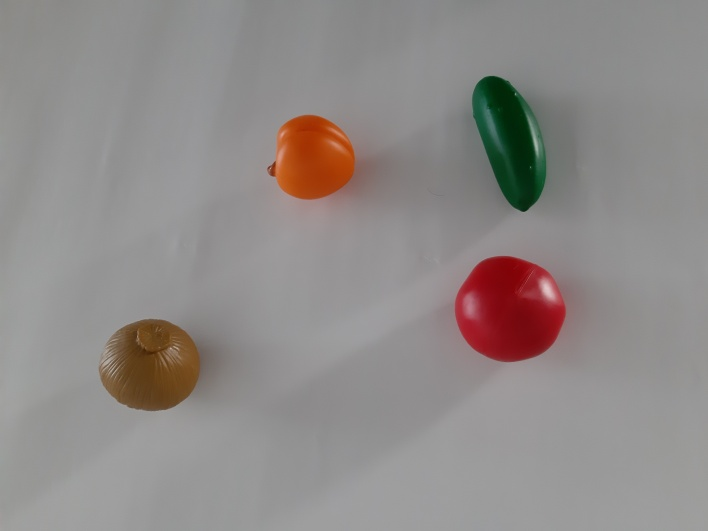apricot: (243, 96, 385, 236)
cucumber: (455, 56, 562, 222)
onion: (74, 294, 221, 427)
tomato: (444, 241, 583, 379)
